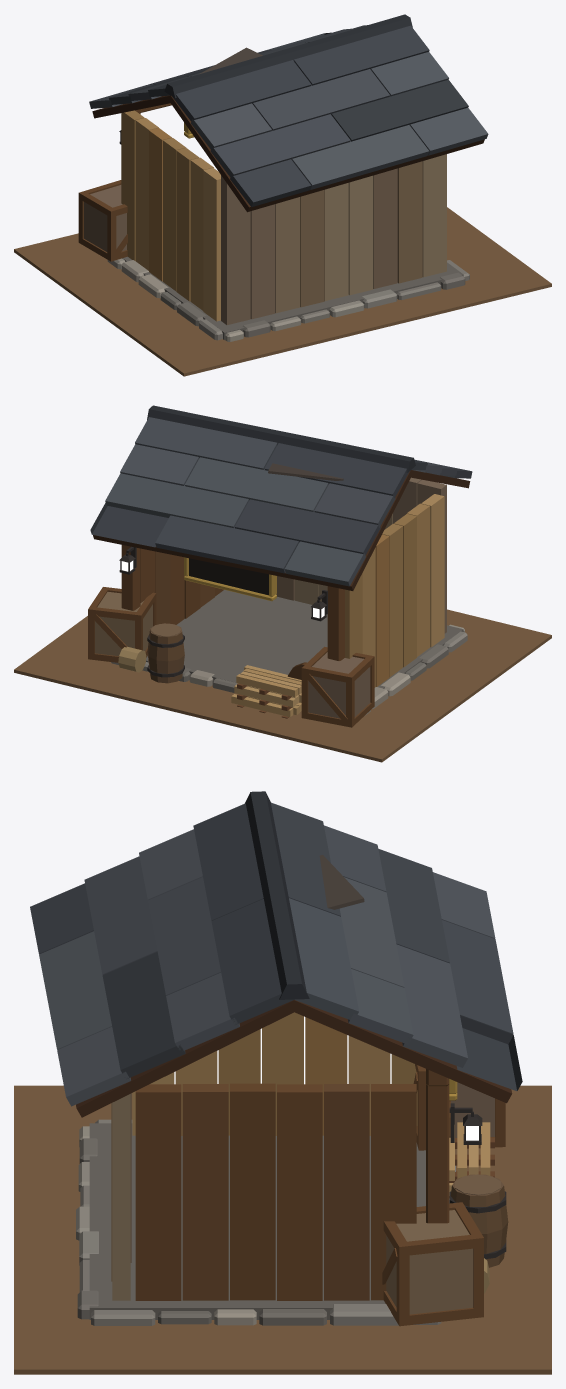
File: OddsAndEnds.glb
3 views of the same model, one above another, from view 1: azimuth 30°, elevation 25°; view 2: azimuth 150°, elevation 25°; view 3: azimuth 270°, elevation 25° (orthographic). The views are drawn at different scales.
Parts seen in each view (by area): view 1: Body, Roof; view 2: Body, Roof, Sign; view 3: Body, Roof.
Boxes of the visible parts, x1,y1,x2,y2 form: Body: (14, 103, 551, 376); Roof: (89, 14, 488, 212); Body: (14, 477, 551, 762); Roof: (90, 405, 472, 590); Sign: (189, 558, 268, 595); Body: (14, 1012, 551, 1374); Roof: (30, 791, 522, 1117).
Size of what is drawn, in the model's own units: 20 by 11.4 by 16.
